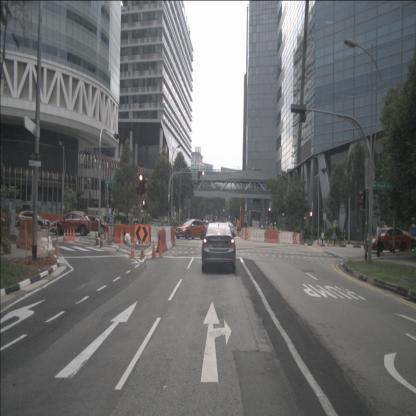human-pedestrian-adult: (106, 206, 116, 245), (376, 222, 381, 258), (331, 230, 337, 246), (320, 230, 325, 245)
movable_object-barrier: (16, 219, 34, 250), (113, 224, 134, 243), (150, 225, 168, 243), (264, 230, 280, 243), (278, 232, 294, 244), (250, 230, 266, 242), (164, 227, 172, 250), (171, 227, 175, 247), (246, 229, 252, 240), (293, 233, 297, 244), (296, 233, 300, 244), (299, 234, 303, 244), (242, 228, 246, 238), (240, 228, 244, 238), (244, 228, 247, 239), (240, 227, 243, 236)
movable_object-trafficcone: (156, 229, 168, 253), (53, 236, 60, 255), (129, 240, 136, 259), (139, 240, 144, 259), (151, 240, 156, 259), (158, 240, 163, 258), (94, 232, 100, 245), (99, 233, 104, 248), (119, 231, 124, 245), (62, 228, 66, 243), (72, 228, 76, 241), (38, 229, 42, 241), (103, 229, 107, 240), (69, 228, 72, 241), (66, 229, 69, 241), (326, 238, 330, 246), (318, 238, 321, 247), (332, 239, 335, 247)
vehicle-car: (201, 222, 236, 273), (364, 228, 412, 254), (51, 211, 92, 236), (19, 210, 50, 232), (174, 219, 206, 240), (78, 215, 108, 233), (226, 222, 234, 236)
vehicle-truck: (248, 210, 260, 236)
